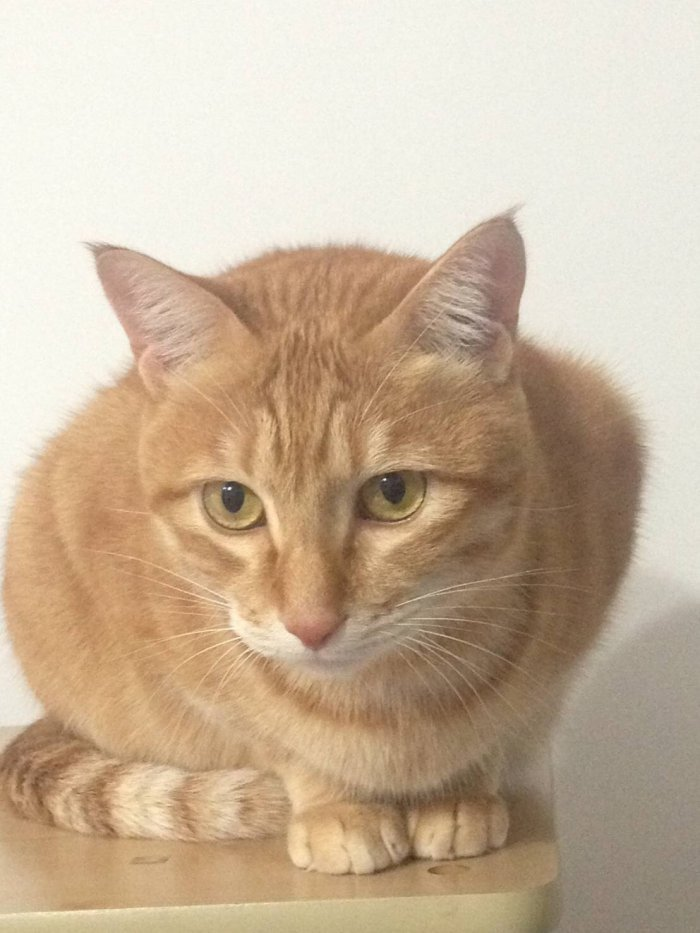cat: (1, 192, 653, 882)
